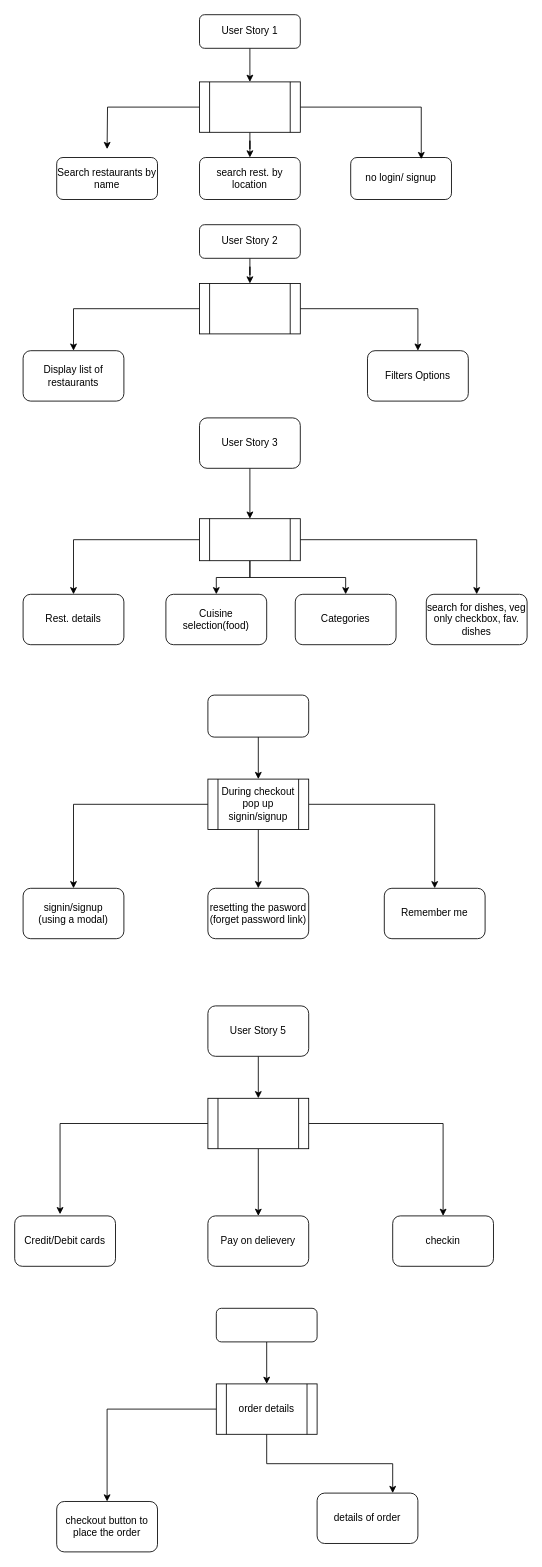
Some shapes in this 542 by 1567 pixel diagram are drawn without their labels. Here are the shapes that lost their labels. From the top down, the centre of each, then its label:
At (x=249, y=106): "Landing page".
At (x=249, y=308): "Page divides into 2 sections".
At (x=249, y=539): "Details page of selected restaurant".
At (x=258, y=715): "User Story 4".
At (x=258, y=1123): "add payment methods".
At (x=266, y=1324): "user story 6".
